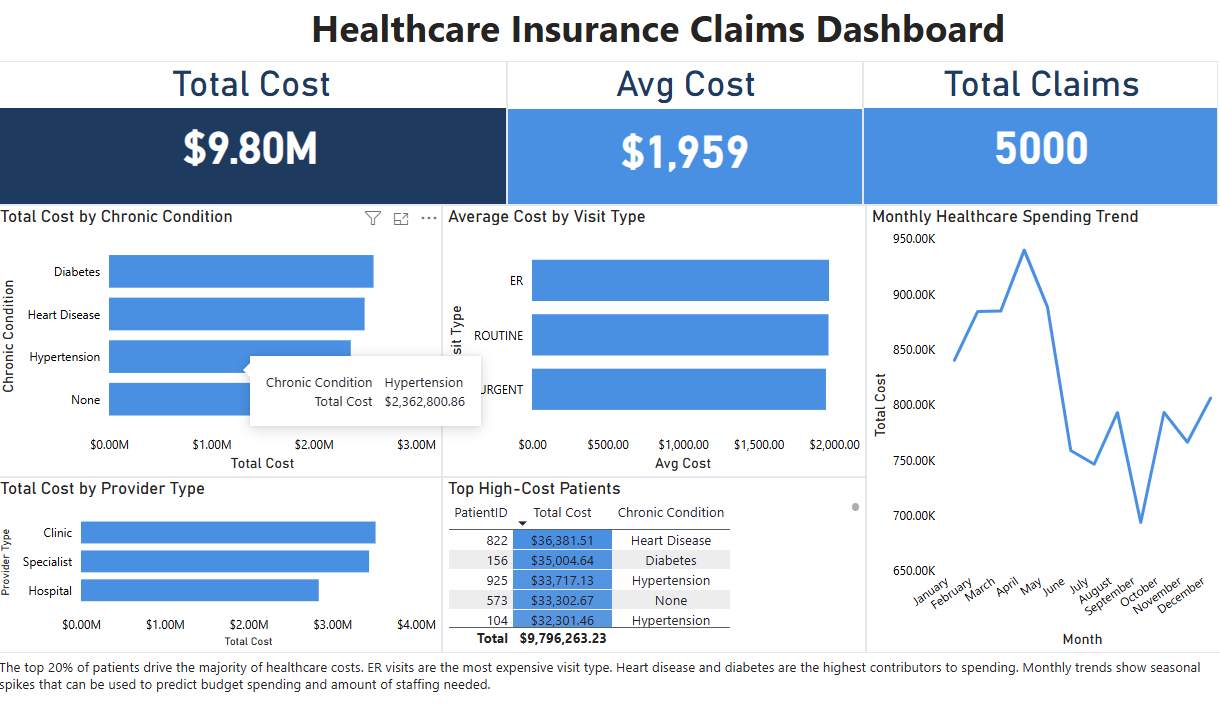

What the dashboard file says about the page in this screenshot:
{"tool":"powerbi","page":{"name":"Page 1","canvas":[1280,720],"ordinal":0},"visuals":[{"type":"group","id":"g1","title":"Group 1","box":[0,64,1224,144],"z":0},{"type":"card","title":"Total Cost","fields":{"Values":["Claims.Total Cost"]},"box":[0,64,513.3,144],"z":0,"group":"g1"},{"type":"textbox","box":[240,0,848,64],"z":1000},{"type":"card","title":"Avg Cost","fields":{"Values":["Claims.Avg Cost"]},"box":[513.3,64,355.4,144],"z":1000,"group":"g1"},{"type":"card","title":"Total Claims","fields":{"Values":["Claims.Total Claims"]},"box":[868.6,64,355.4,144],"z":2000,"group":"g1"},{"type":"clusteredBarChart","fields":{"Y":["Claims.Total Cost"],"Category":["Claims.Chronic Condition"]},"box":[0,208,448,272],"z":2000},{"type":"clusteredBarChart","title":"Average Cost by Visit Type","fields":{"Category":["Claims.Visit Type"],"Y":["Claims.Avg Cost"]},"box":[448,208,424,272],"z":3000},{"type":"lineChart","title":"Monthly Healthcare Spending Trend","fields":{"Y":["Claims.Total Cost"],"Category":["Claims.Date.Variation.Date Hierarchy.Year","Claims.Date.Variation.Date Hierarchy.Quarter","Claims.Date.Variation.Date Hierarchy.Month","Claims.Date.Variation.Date Hierarchy.Day"]},"box":[872,208,360,448],"z":4000},{"type":"clusteredBarChart","fields":{"Category":["Claims.Provider Type"],"Y":["Claims.Total Cost"]},"box":[0,480,448,176],"z":5000},{"type":"tableEx","title":"Top High-Cost Patients","fields":{"Values":["Claims.PatientID","Claims.Total Cost","Claims.Chronic Condition"]},"box":[448,480,424,176],"z":6000},{"type":"textbox","box":[0,656,1232,64],"z":7000}]}

Visuals, with their boxes in screenshot pixels (x1, y1, x2, y2), scaled from the page's 1280x720 canvas onto the 1220x704 screenshot:
"Group 1" group: 0 63 1167 203
"Total Cost" card: 0 63 489 203
textbox: 229 0 1037 63
"Avg Cost" card: 489 63 828 203
"Total Claims" card: 828 63 1167 203
clusteredBarChart - Claims.Total Cost x Claims.Chronic Condition: 0 203 427 469
"Average Cost by Visit Type" clusteredBarChart: 427 203 831 469
"Monthly Healthcare Spending Trend" lineChart: 831 203 1174 641
clusteredBarChart - Claims.Provider Type x Claims.Total Cost: 0 469 427 641
"Top High-Cost Patients" tableEx: 427 469 831 641
textbox: 0 641 1174 703
